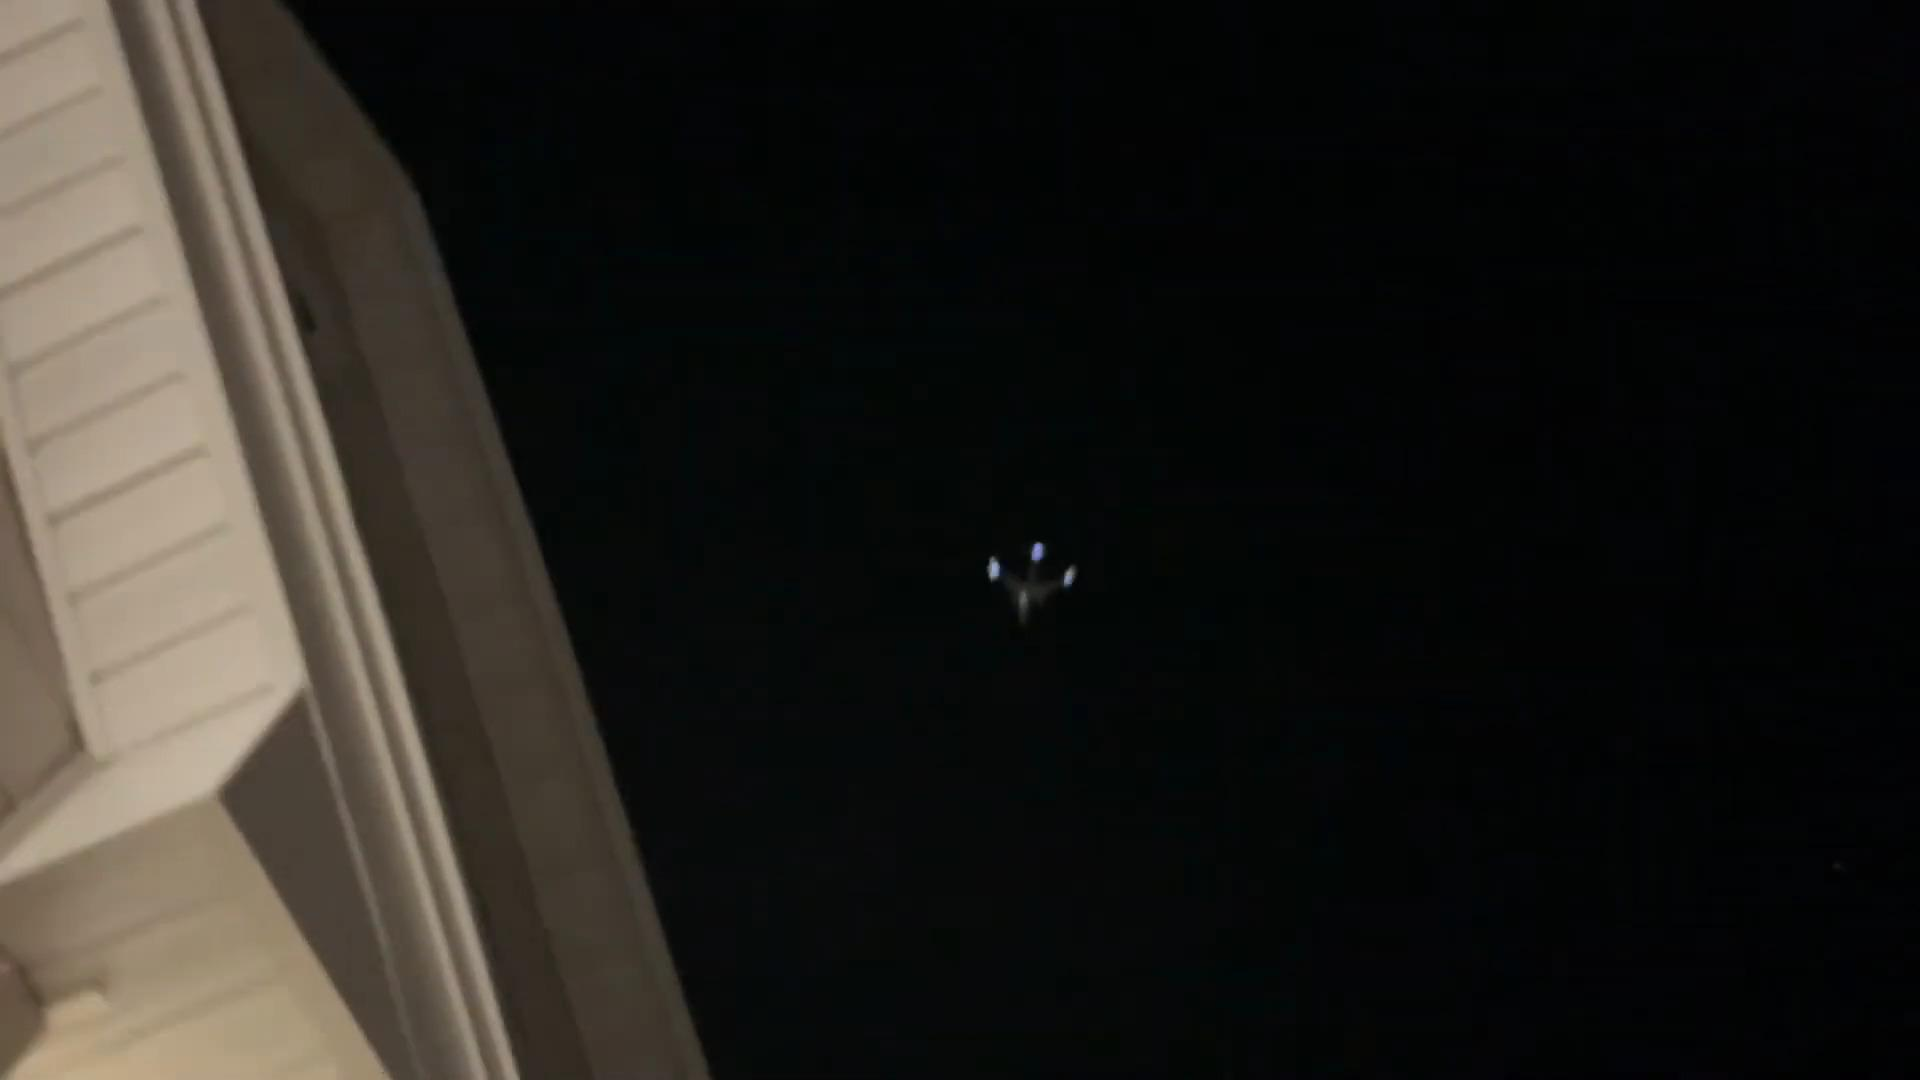Plane: (942, 522, 1129, 649)
